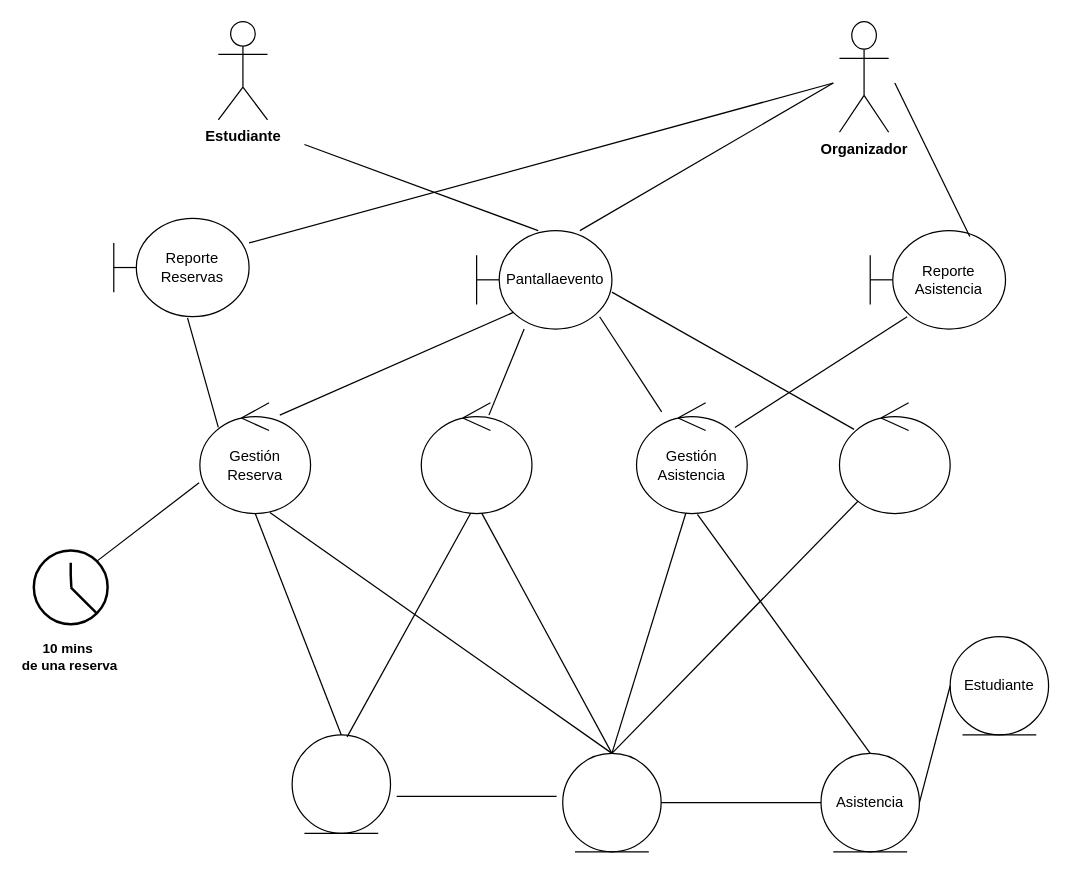
This 1070x873 diagram has some shape labels left out. The shapes that lost their labels are listed below. From the top down, each one's centre as x and y in pixels, then its label:
the point at 476,458: CalculoDisp Cupos
the point at 894,458: Gestión Evento
the point at 341,783: Reserva
the point at 611,802: Evento
